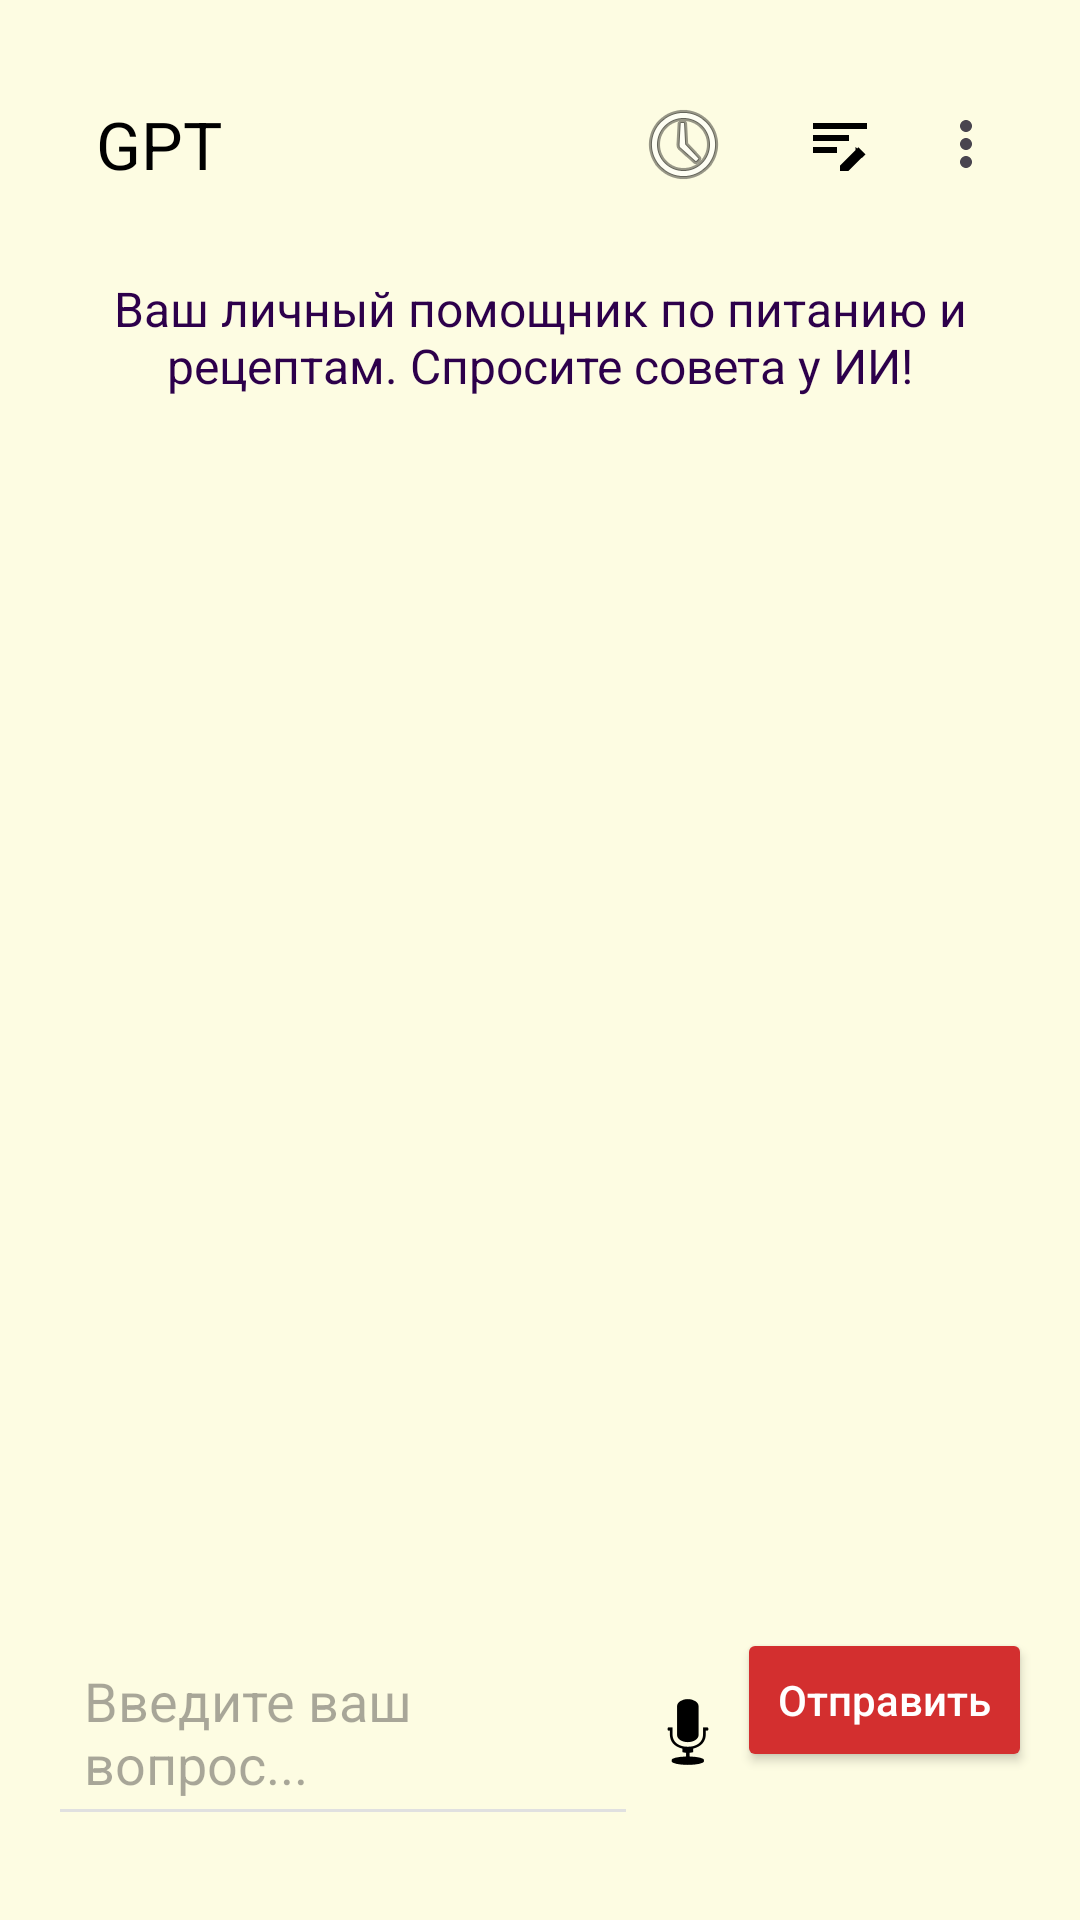

Icon bounding boxes for this 1080 x 1920 phone screenshot, format (x1, y1, x2, y2):
Голосовой ввод: (667, 1699, 709, 1765)
